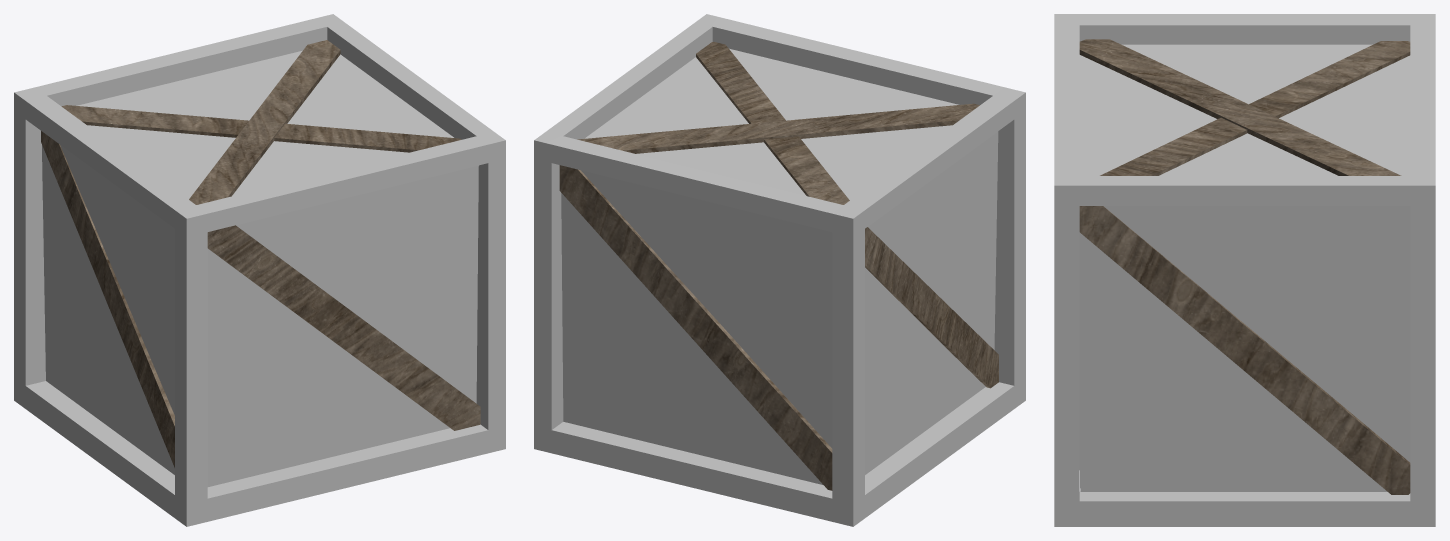
The model's file is SM_Crate_2.fbx.
3 views of the same model, side by side, from view 1: azimuth 30°, elevation 25°; view 2: azimuth 150°, elevation 25°; view 3: azimuth 270°, elevation 25° (orthographic). The views are drawn at different scales.
Parts seen in each view (by area): view 1: Inner, Edges, Boards; view 2: Inner, Edges, Boards; view 3: Inner, Edges, Boards.
Boxes of the visible parts, left/top/right/bottom form: Inner: left=42, top=50, right=478, bottom=486; Edges: left=14, top=14, right=505, bottom=526; Boards: left=41, top=40, right=480, bottom=467; Inner: left=561, top=48, right=998, bottom=484; Edges: left=534, top=14, right=1025, bottom=526; Boards: left=559, top=42, right=998, bottom=490; Inner: left=1079, top=44, right=1410, bottom=491; Edges: left=1054, top=14, right=1435, bottom=526; Boards: left=1079, top=39, right=1410, bottom=494.
Size of the model in its own units: 4.09 by 3.78 by 3.83.
